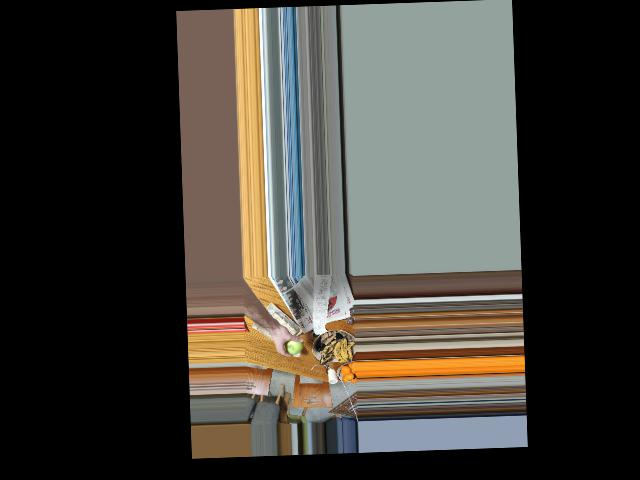apple: (280, 336, 303, 357)
